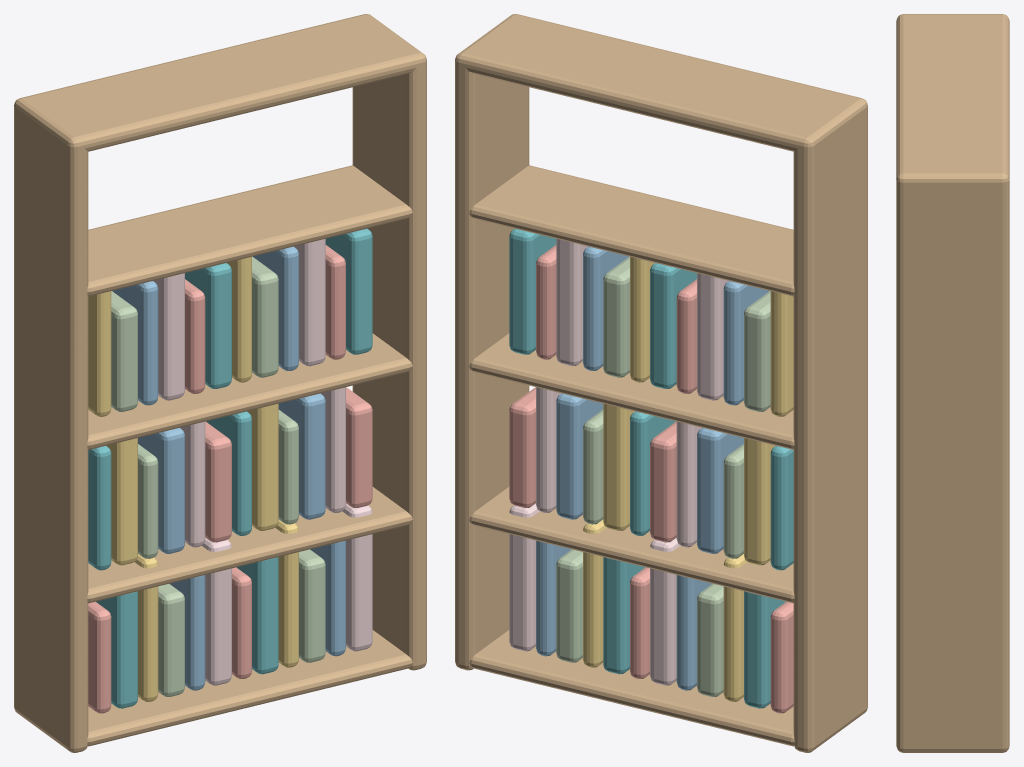
Rendered from Bookshelf.fbx.
3 views of the same model, side by side, from view 1: azimuth 30°, elevation 25°; view 2: azimuth 150°, elevation 25°; view 3: azimuth 270°, elevation 25° (orthographic). The views are drawn at different scales.
Visible parts, largest first — view 1: Bookshelf; view 2: Bookshelf; view 3: Bookshelf.
Part boxes in pixels (x1,y1,x2,y2): Bookshelf: (14,14,426,752); Bookshelf: (455,14,867,752); Bookshelf: (896,14,1009,752).
Size of the model in its own units: 1.1 by 1.8 by 0.32.
